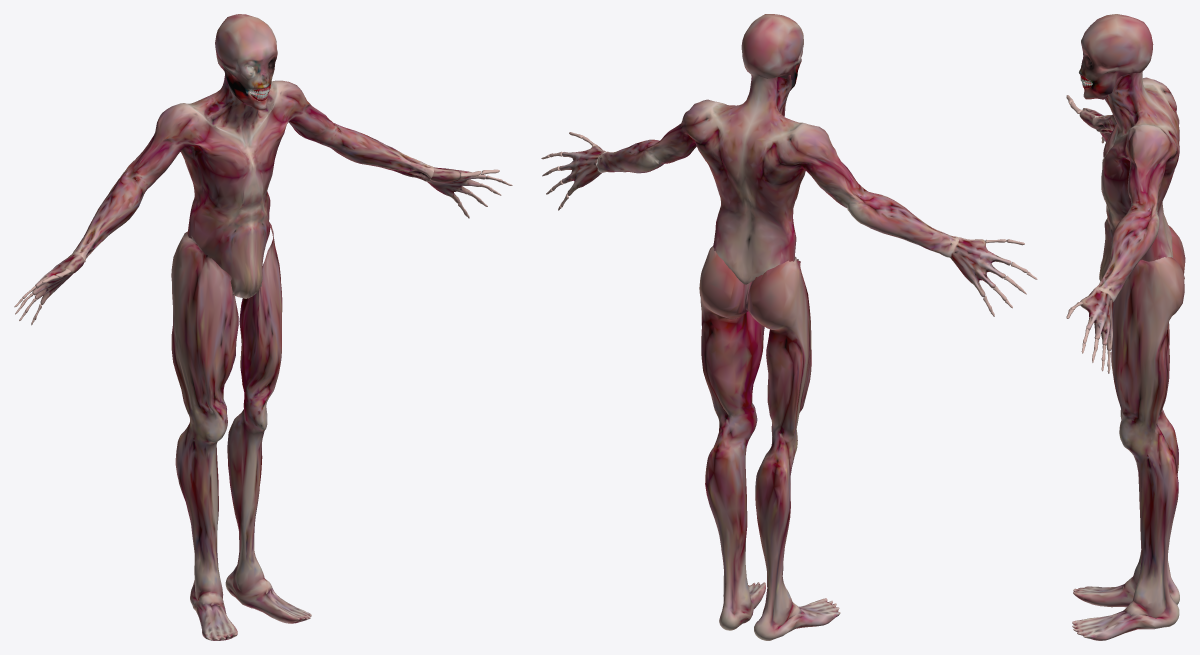
File: SkinlessMan - Otherworld Entity.glb
3 renders of one model, left to right at view 1: azimuth 30°, elevation 25°; view 2: azimuth 150°, elevation 25°; view 3: azimuth 270°, elevation 25°, orthographic.
Parts seen in each view (by area): view 1: legs, Skinless_01_copy1, Skinless_01, hands; view 2: legs, Skinless_01_copy1, hands, Skinless_01; view 3: legs, Skinless_01_copy1, Skinless_01, hands.
Boxes of the visible parts, x1=… form: legs: x1=171, y1=222, x2=311, y2=640; Skinless_01_copy1: x1=72, y1=74, x2=433, y2=298; Skinless_01: x1=215, y1=14, x2=277, y2=110; hands: x1=14, y1=167, x2=512, y2=325; legs: x1=699, y1=246, x2=840, y2=640; Skinless_01_copy1: x1=597, y1=75, x2=958, y2=284; hands: x1=541, y1=132, x2=1037, y2=316; Skinless_01: x1=741, y1=14, x2=803, y2=90; legs: x1=1072, y1=225, x2=1185, y2=640; Skinless_01_copy1: x1=1092, y1=72, x2=1179, y2=302; Skinless_01: x1=1079, y1=14, x2=1153, y2=99; hands: x1=1066, y1=95, x2=1112, y2=373.
Size of the model in its own units: 1.63 by 1.9 by 0.3381.
